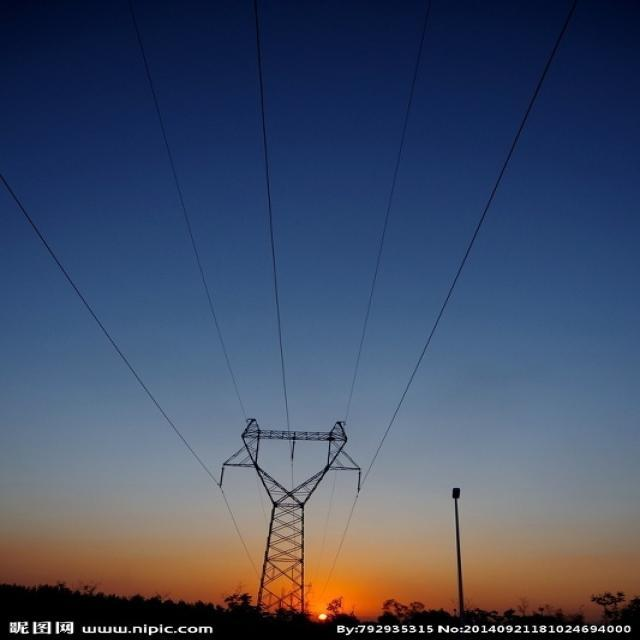non-critical vegetation: (197, 417, 371, 609)
